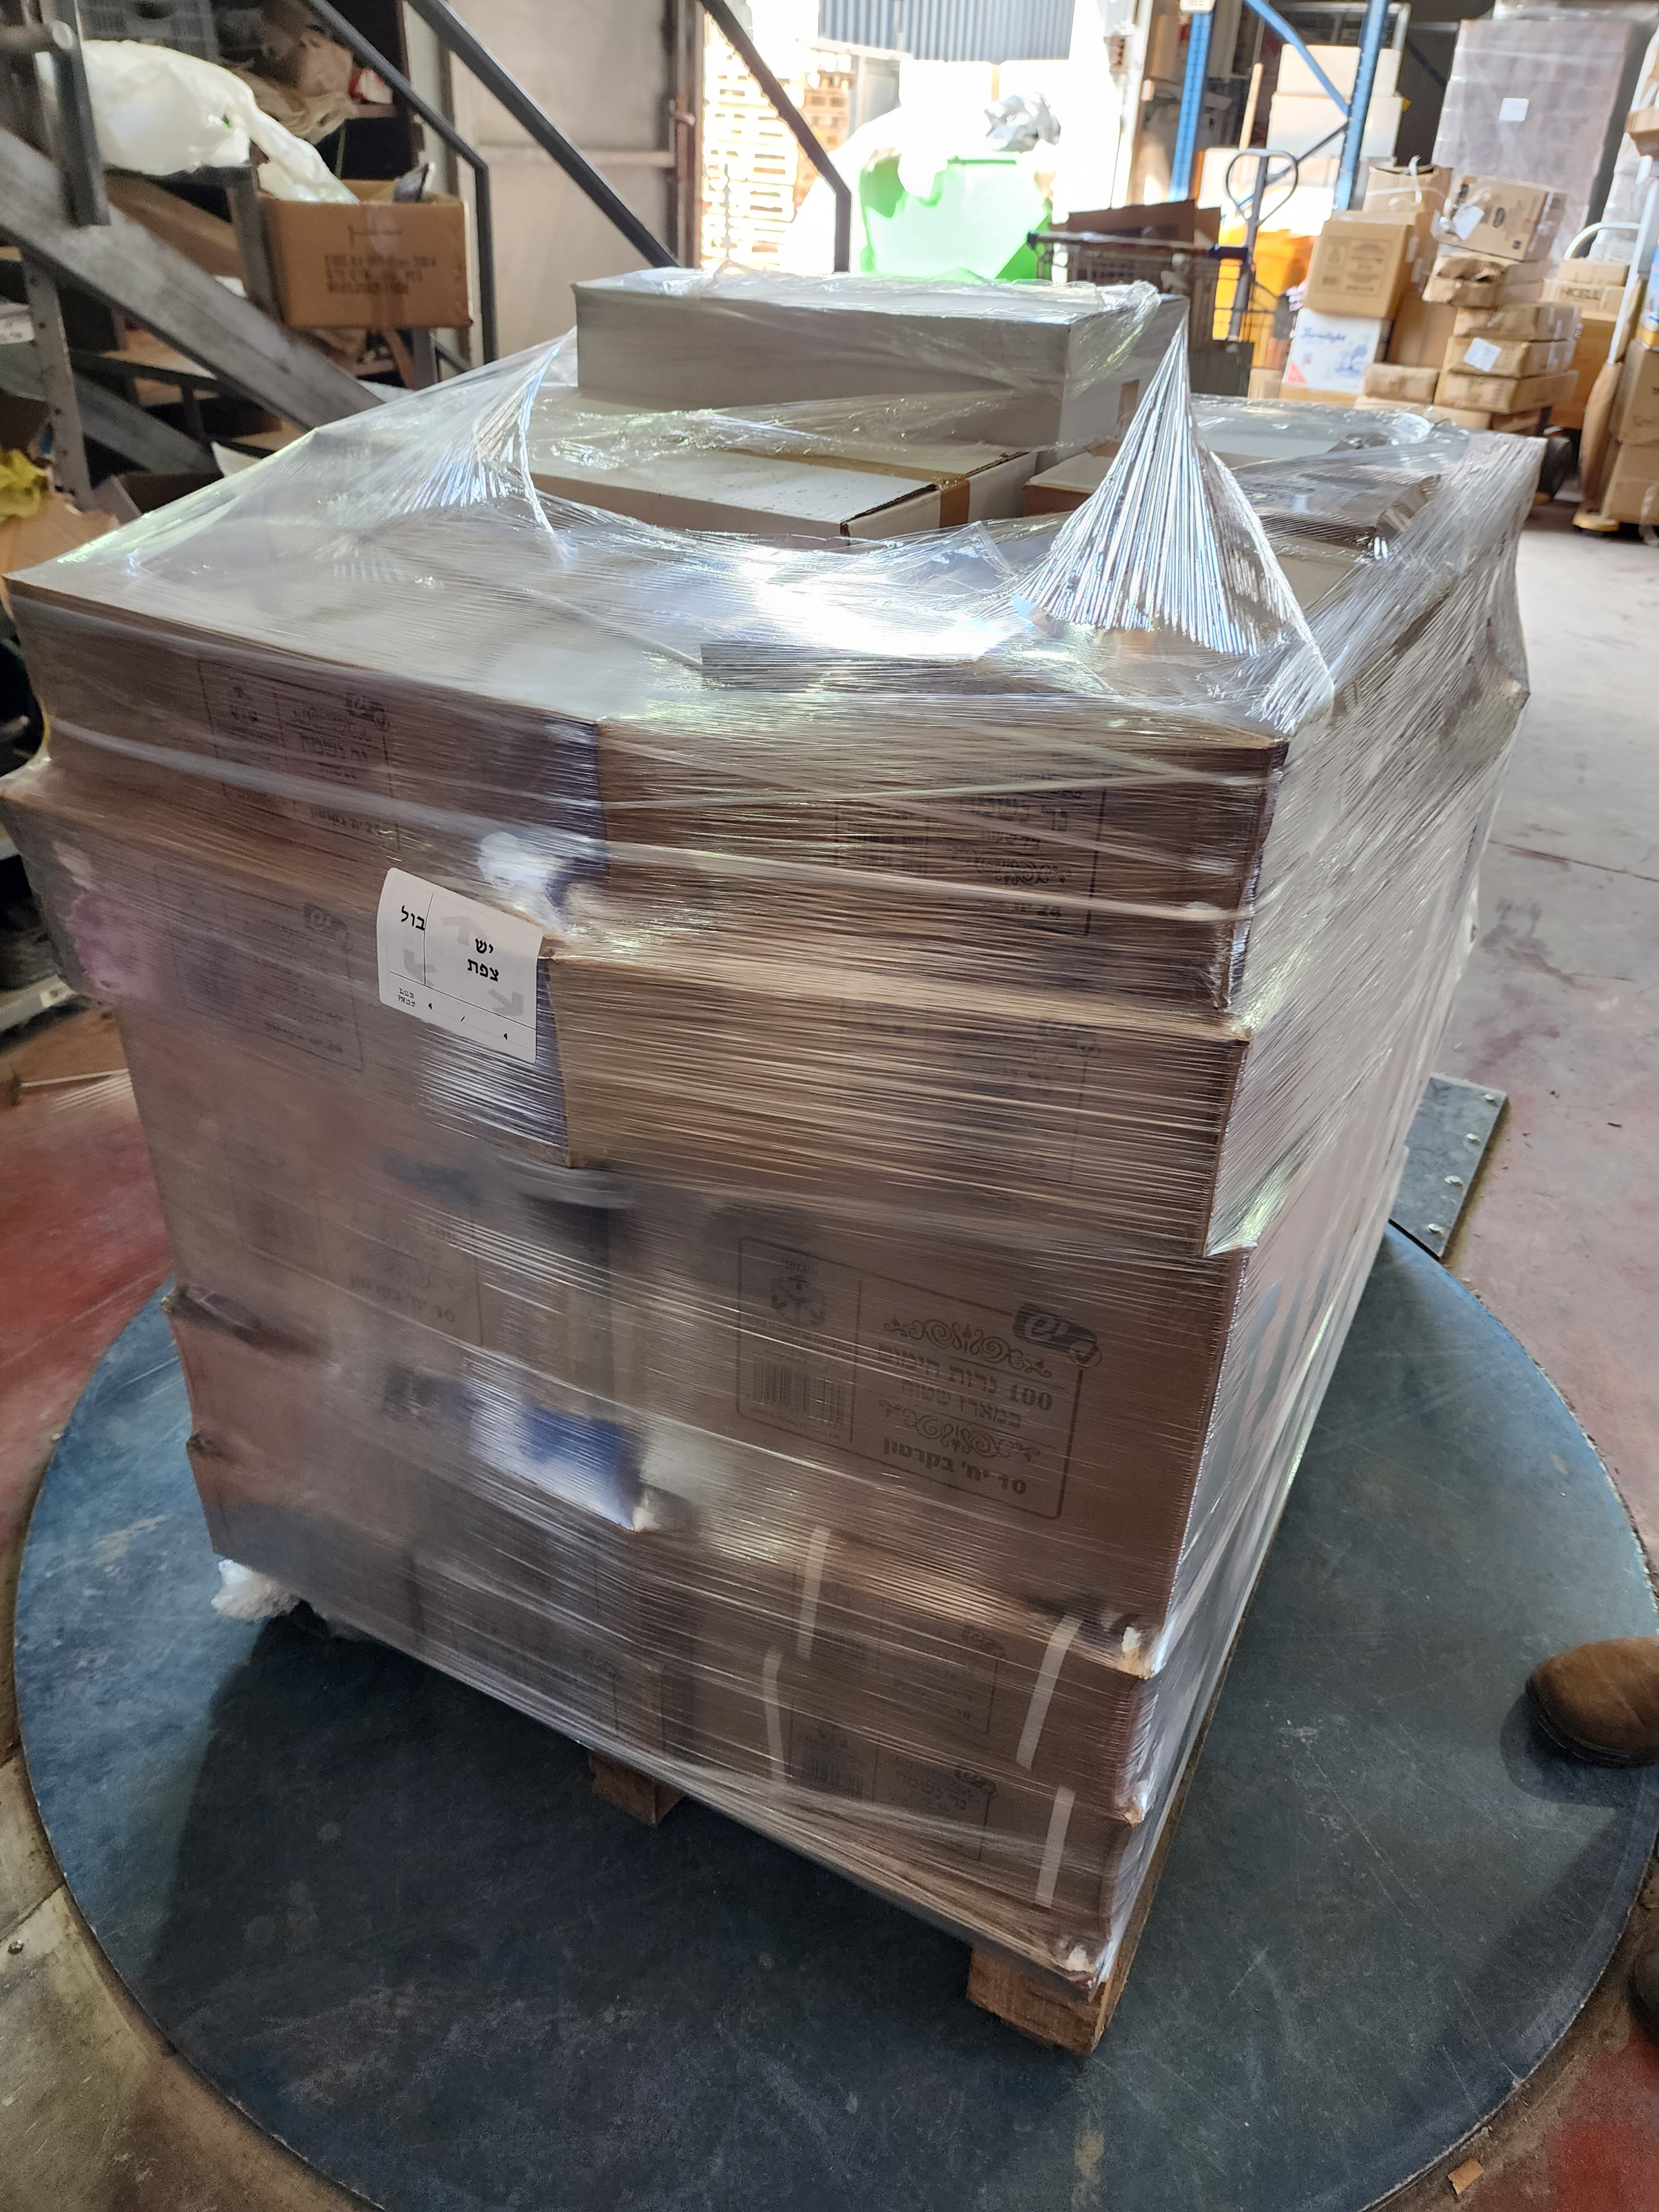other: (44, 380, 1541, 2006)
